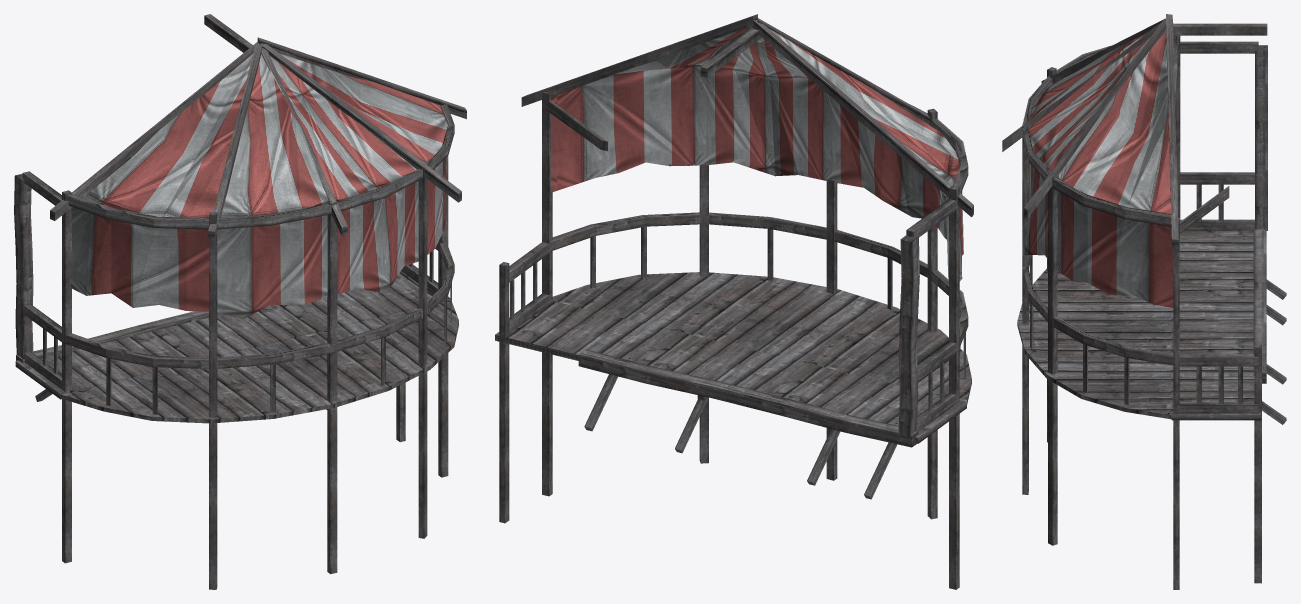
Rendered from v3_balcony.dae.
The picture shows the model from 3 angles, left to right: view 1: azimuth 30°, elevation 25°; view 2: azimuth 150°, elevation 25°; view 3: azimuth 270°, elevation 25°; orthographic projection. The views are drawn at different scales.
Parts seen in each view (by area): view 1: woodPlanks, cloth_001_c; view 2: woodPlanks, cloth_001_c; view 3: woodPlanks, cloth_001_c.
Boxes of the visible parts, x1=… form: woodPlanks: x1=14, y1=14, x2=466, y2=589; cloth_001_c: x1=71, y1=53, x2=447, y2=319; woodPlanks: x1=495, y1=14, x2=973, y2=589; cloth_001_c: x1=551, y1=27, x2=963, y2=285; woodPlanks: x1=1002, y1=14, x2=1286, y2=589; cloth_001_c: x1=1024, y1=30, x2=1177, y2=307.
Size of the model in its own units: 10.44 by 11.67 by 6.23.
